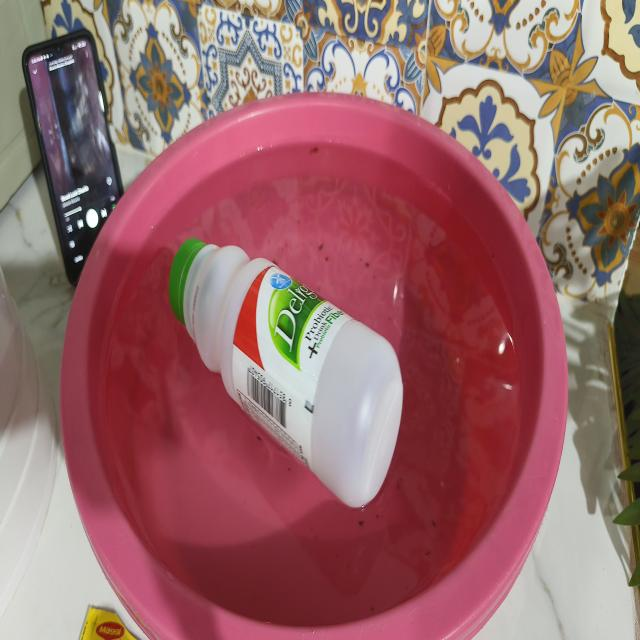Plastic Bottle: (169, 239, 403, 507)
